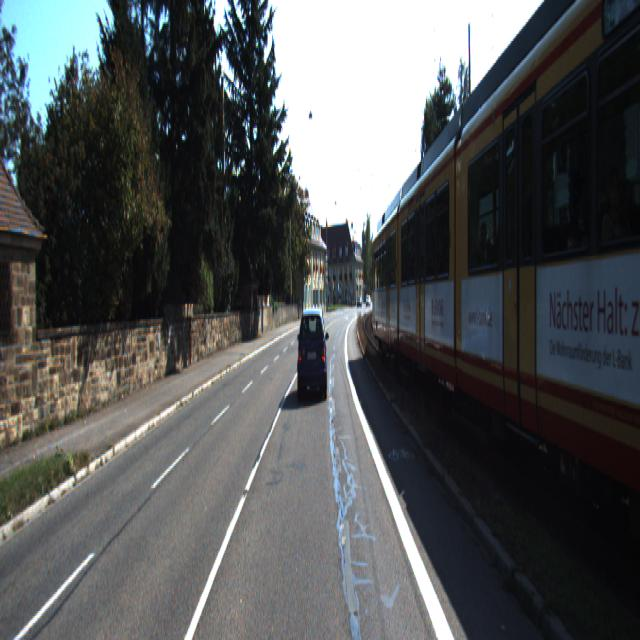Car: (452, 0, 639, 613), (396, 107, 517, 431), (371, 188, 434, 375), (298, 306, 329, 404)
